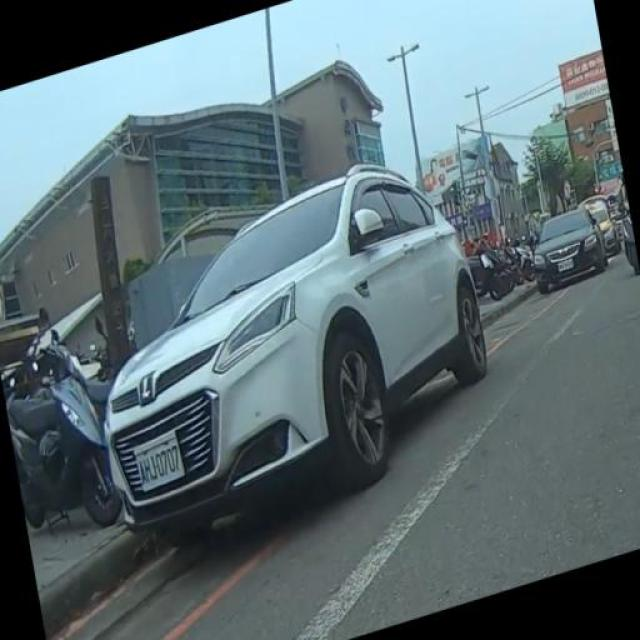illegalparking: (83, 165, 518, 561)
